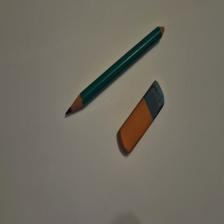eraser: (119, 81, 165, 154)
pencil: (66, 27, 166, 116)
